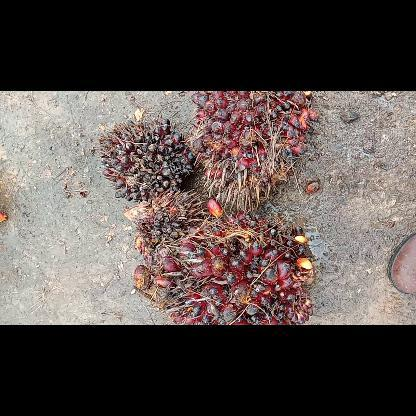Kurang masak: (133, 198, 313, 324)
TBS abnormal: (98, 116, 194, 200), (124, 190, 206, 262)
TBS masak: (191, 91, 318, 211)
